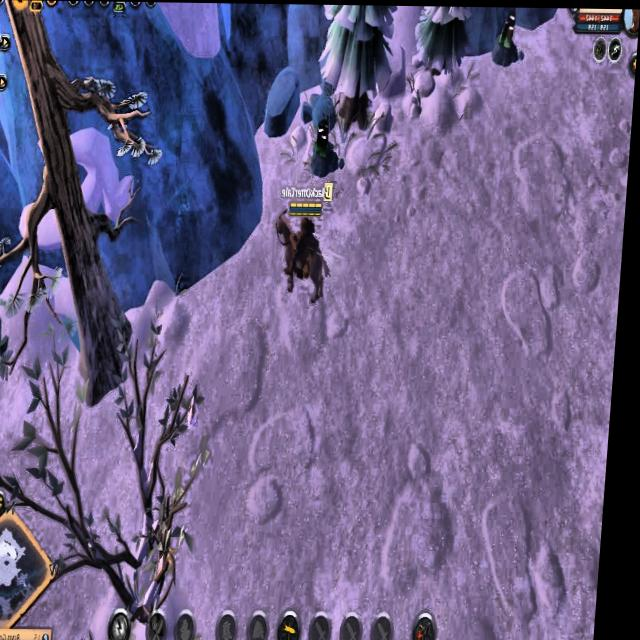sandstone: (0, 296, 14, 379)
tinore: (310, 117, 344, 177), (491, 9, 524, 69)
